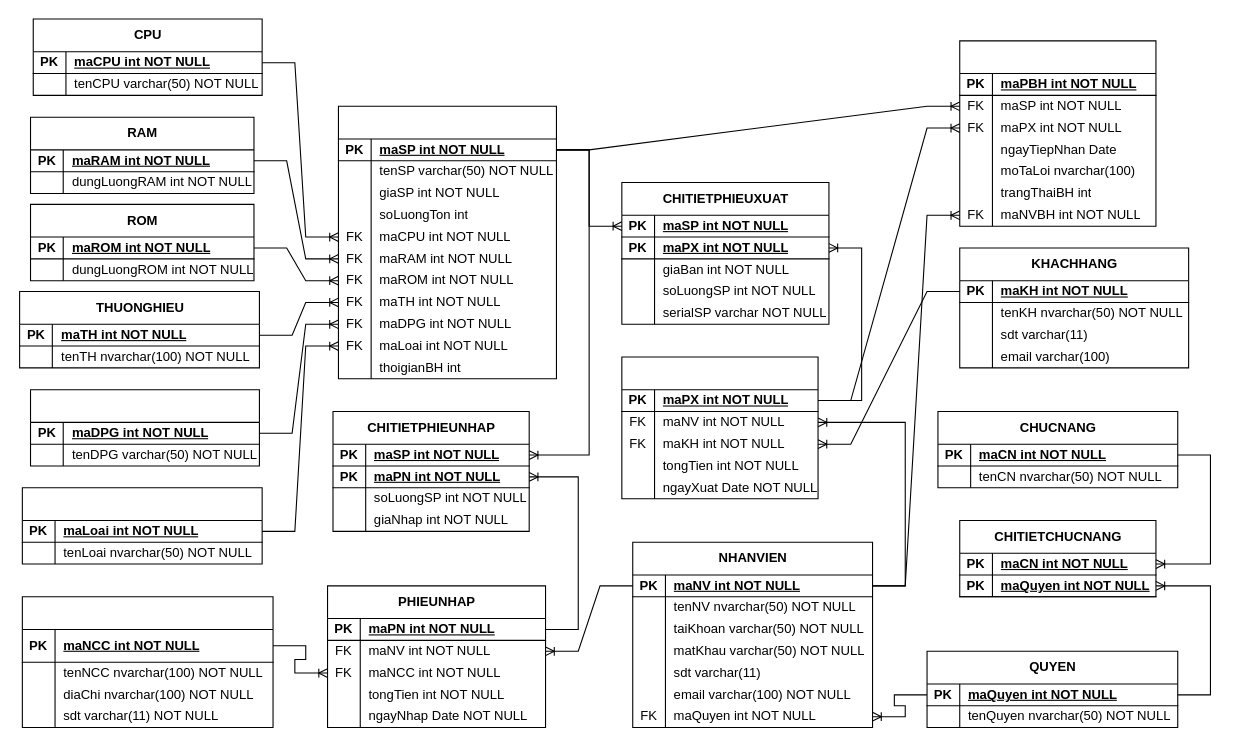
The diagram is 1238 pixels wide and 747 high, and some of its shapes have lost their labels. Here are the shapes that lost their labels. From the top down, the box of each, then its label:
(959, 40, 1156, 226): PHIEUBAOHANH
(337, 105, 556, 379): SANPHAM
(29, 389, 259, 466): DOPHANGIAI
(621, 356, 818, 499): PHIEUXUAT
(21, 487, 262, 564): PHANLOAI
(21, 596, 273, 728): NHACUNGCAP
